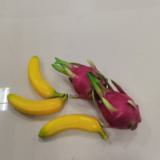pitaya: (87, 73, 142, 132), (52, 57, 109, 100)
